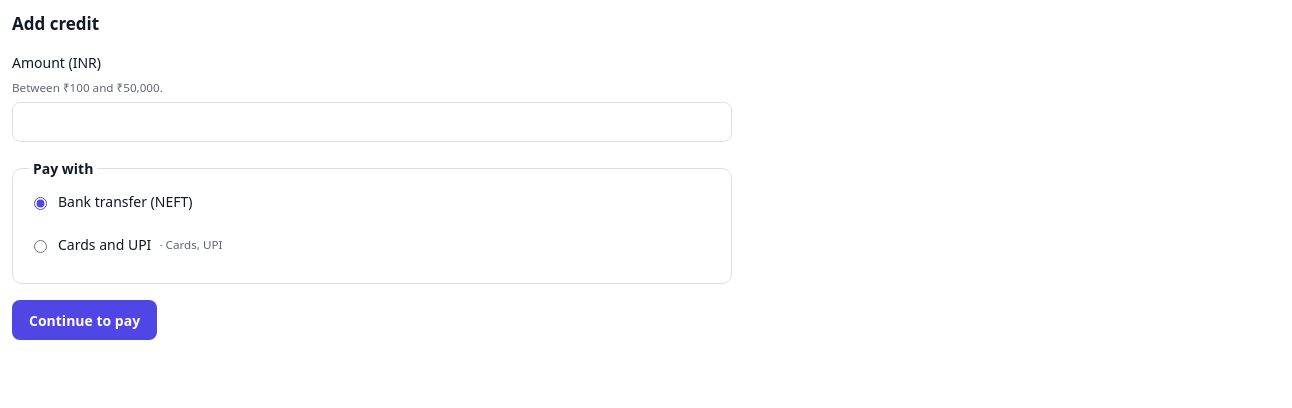
adding credit › shows a bank transfer's instructions and its reference, then lists it
Type "500" into the field labelled "Amount (INR)".
click(372, 122); type("500")  # box [12,102,732,142]
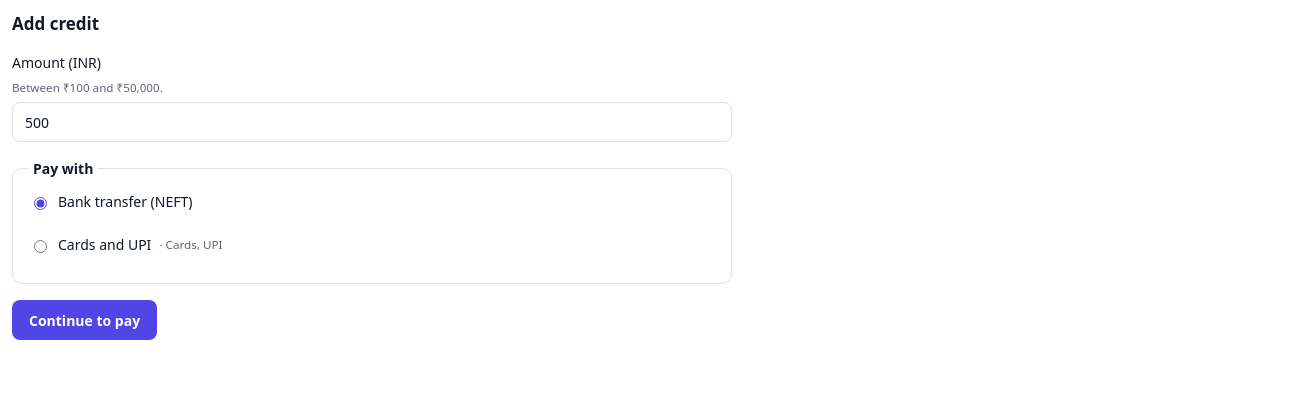
Click the button "Continue to pay".
click(85, 320)  # box [12,300,157,340]
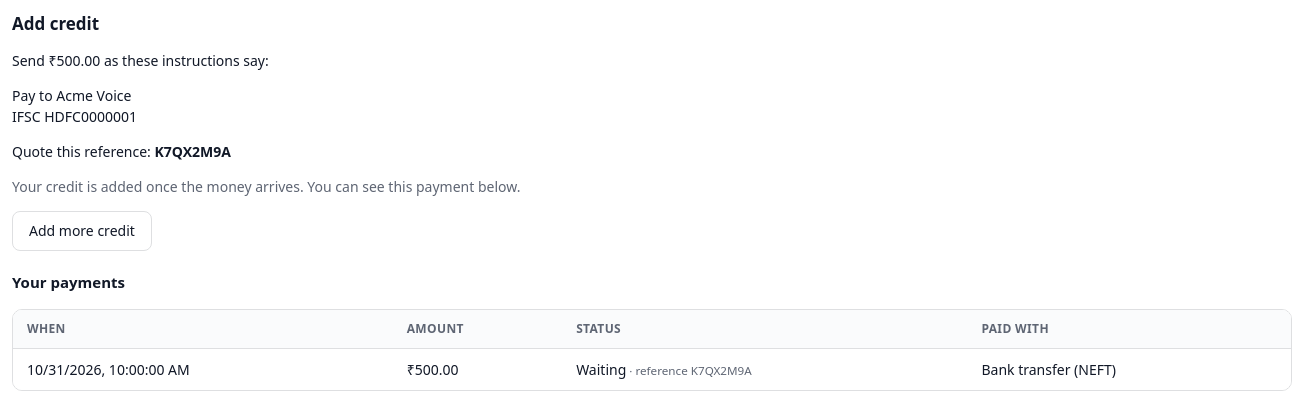
Now the text "Send ₹500.00 as these instructions say:" is shown, box [12,51,269,70]
Now the text with test id "reference" reads "K7QX2M9A", box [154,142,231,161]
